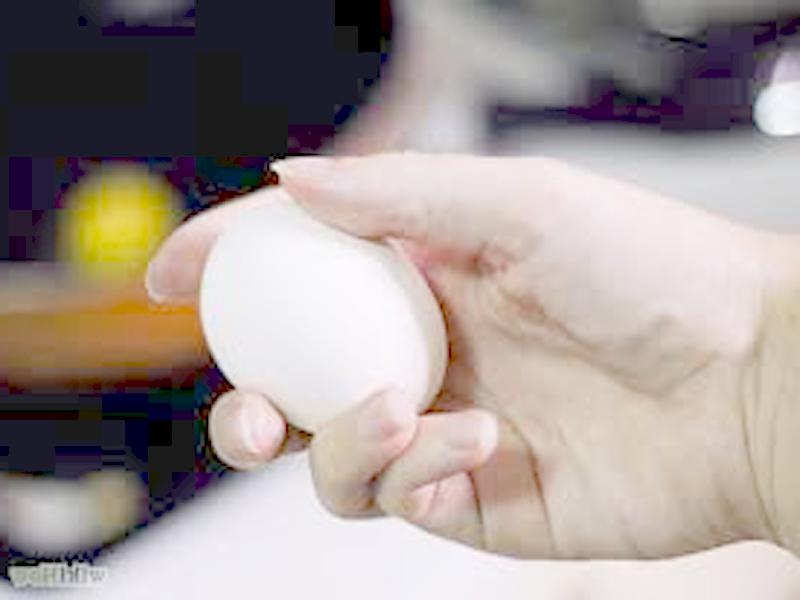Eggs: (197, 203, 444, 430)
